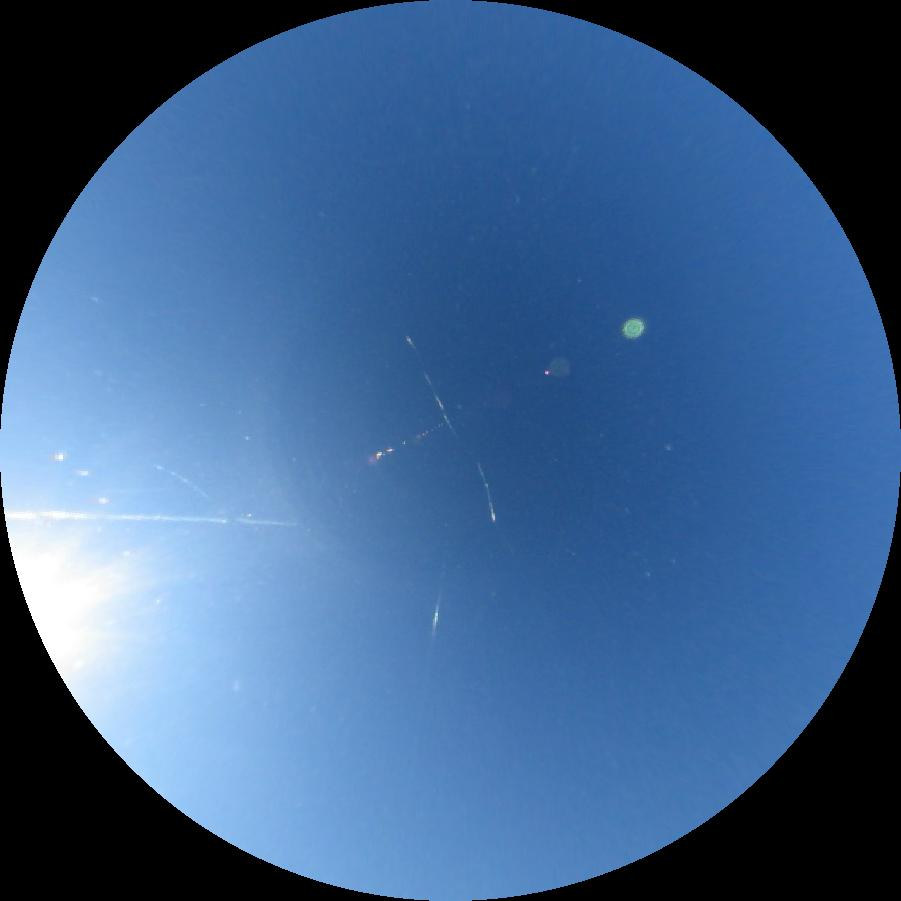parasite: (405, 334, 462, 438), (4, 510, 301, 527), (155, 464, 210, 499), (478, 462, 497, 523), (430, 590, 442, 643)
sun: (11, 551, 83, 675)
